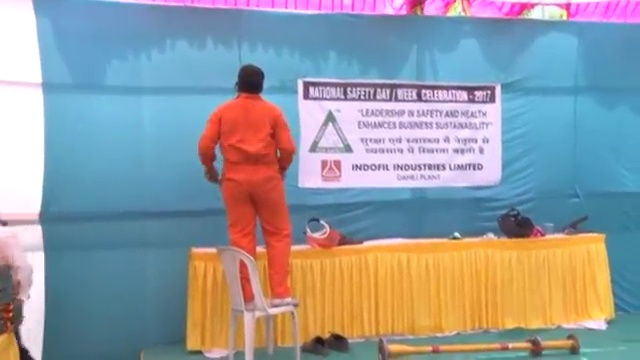helmet_off: (234, 63, 266, 94)
person: (197, 65, 299, 308)
